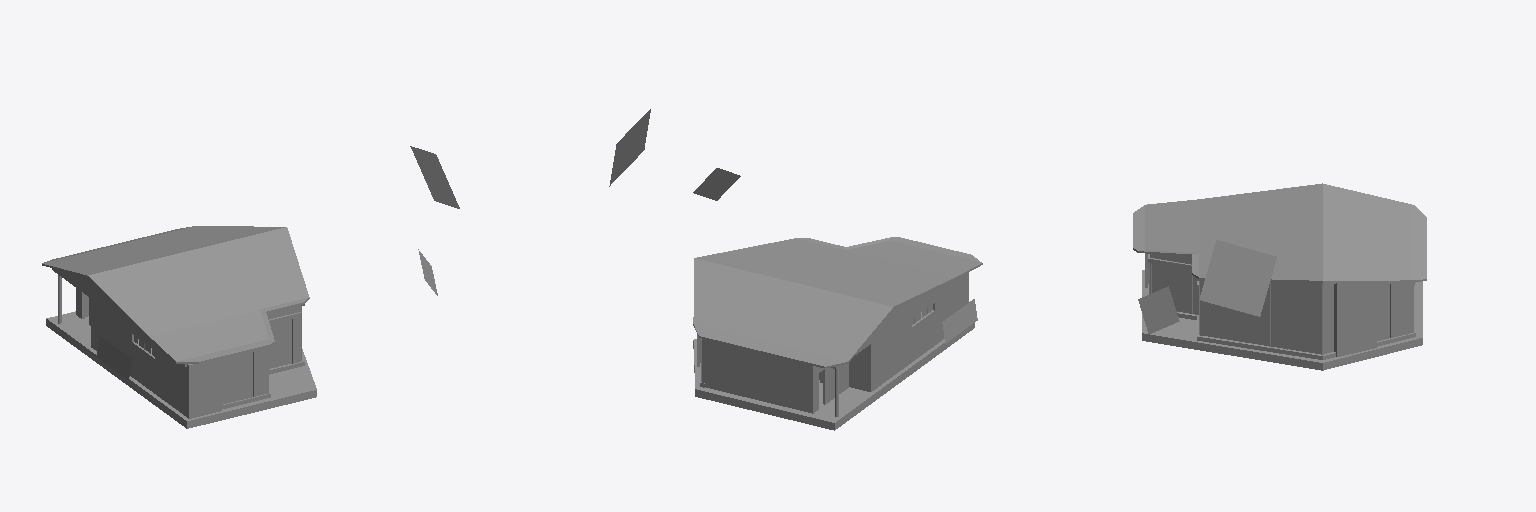
Rendered from house.obj.
3 renders of one model, left to right at view 1: azimuth 30°, elevation 25°; view 2: azimuth 150°, elevation 25°; view 3: azimuth 270°, elevation 25°, orthographic.
Parts seen in each view (by area): view 1: Plane.004_Plane.008, Cube_Cube.001, Plane_Plane.002, Plane.002_Plane.005, Plane.028_Plane.029, Plane.007_Plane.004, Plane.033, Cube.005_Cube.004; view 2: Plane.004_Plane.008, Cube_Cube.001, Plane_Plane.002, Plane.028_Plane.029, Plane.007_Plane.004, Plane.029_Plane.030, Plane.033; view 3: Plane.004_Plane.008, Plane.002_Plane.005, Plane.028_Plane.029, Plane_Plane.002, Cube_Cube.001, Cube.005_Cube.004, Plane.029_Plane.030, Plane.003_Plane.006.
Part boxes in pixels (bbox=[...]): Plane.004_Plane.008: bbox=[42, 226, 309, 363]; Cube_Cube.001: bbox=[58, 275, 221, 418]; Plane_Plane.002: bbox=[46, 311, 316, 428]; Plane.002_Plane.005: bbox=[223, 305, 300, 403]; Plane.028_Plane.029: bbox=[410, 146, 459, 208]; Plane.007_Plane.004: bbox=[52, 268, 292, 366]; Plane.033: bbox=[97, 336, 131, 380]; Cube.005_Cube.004: bbox=[222, 304, 304, 408]; Plane.004_Plane.008: bbox=[693, 237, 982, 368]; Cube_Cube.001: bbox=[697, 273, 968, 416]; Plane_Plane.002: bbox=[693, 323, 974, 430]; Plane.028_Plane.029: bbox=[609, 109, 650, 186]; Plane.007_Plane.004: bbox=[831, 272, 968, 368]; Plane.029_Plane.030: bbox=[693, 168, 740, 200]; Plane.033: bbox=[942, 299, 977, 343]; Plane.004_Plane.008: bbox=[1133, 183, 1426, 282]; Plane.002_Plane.005: bbox=[1152, 264, 1412, 353]; Plane.028_Plane.029: bbox=[1199, 240, 1276, 316]; Plane_Plane.002: bbox=[1142, 270, 1422, 370]; Cube_Cube.001: bbox=[1145, 253, 1376, 356]; Cube.005_Cube.004: bbox=[1148, 254, 1415, 359]; Plane.029_Plane.030: bbox=[1138, 286, 1179, 333]; Plane.003_Plane.006: bbox=[1149, 263, 1413, 354].
Bounding box in the file's own units: 87 × 43.83 × 65.55.